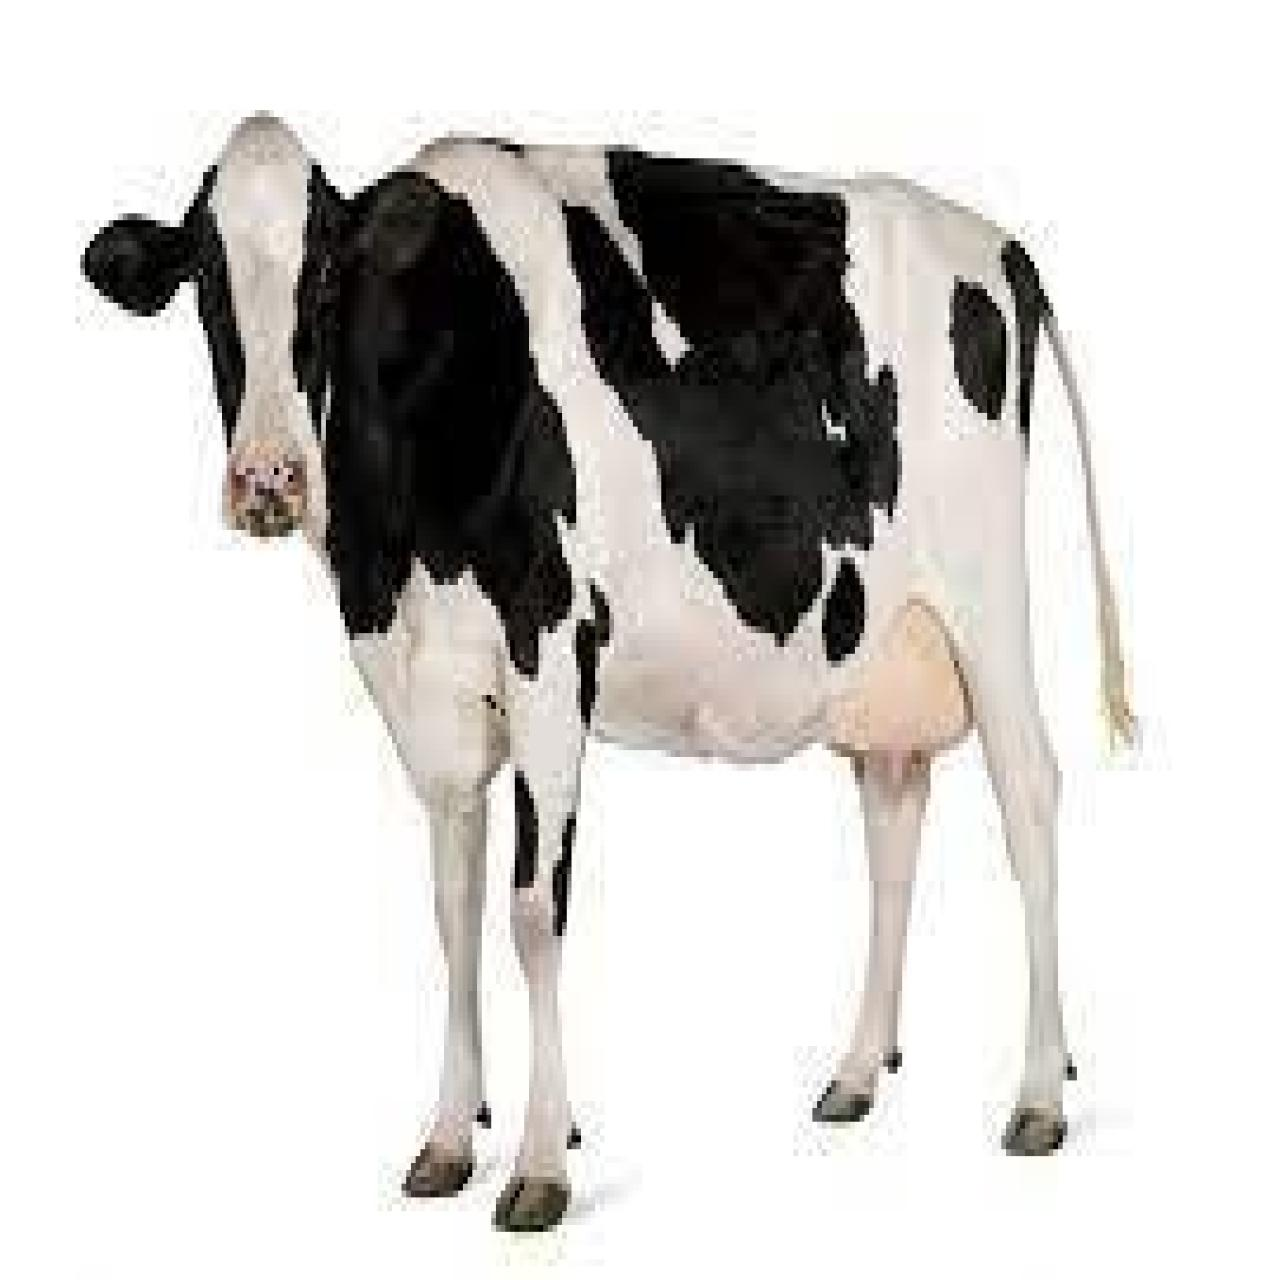cow: (80, 110, 1143, 1239)
